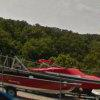Boat: (2, 50, 100, 100)
